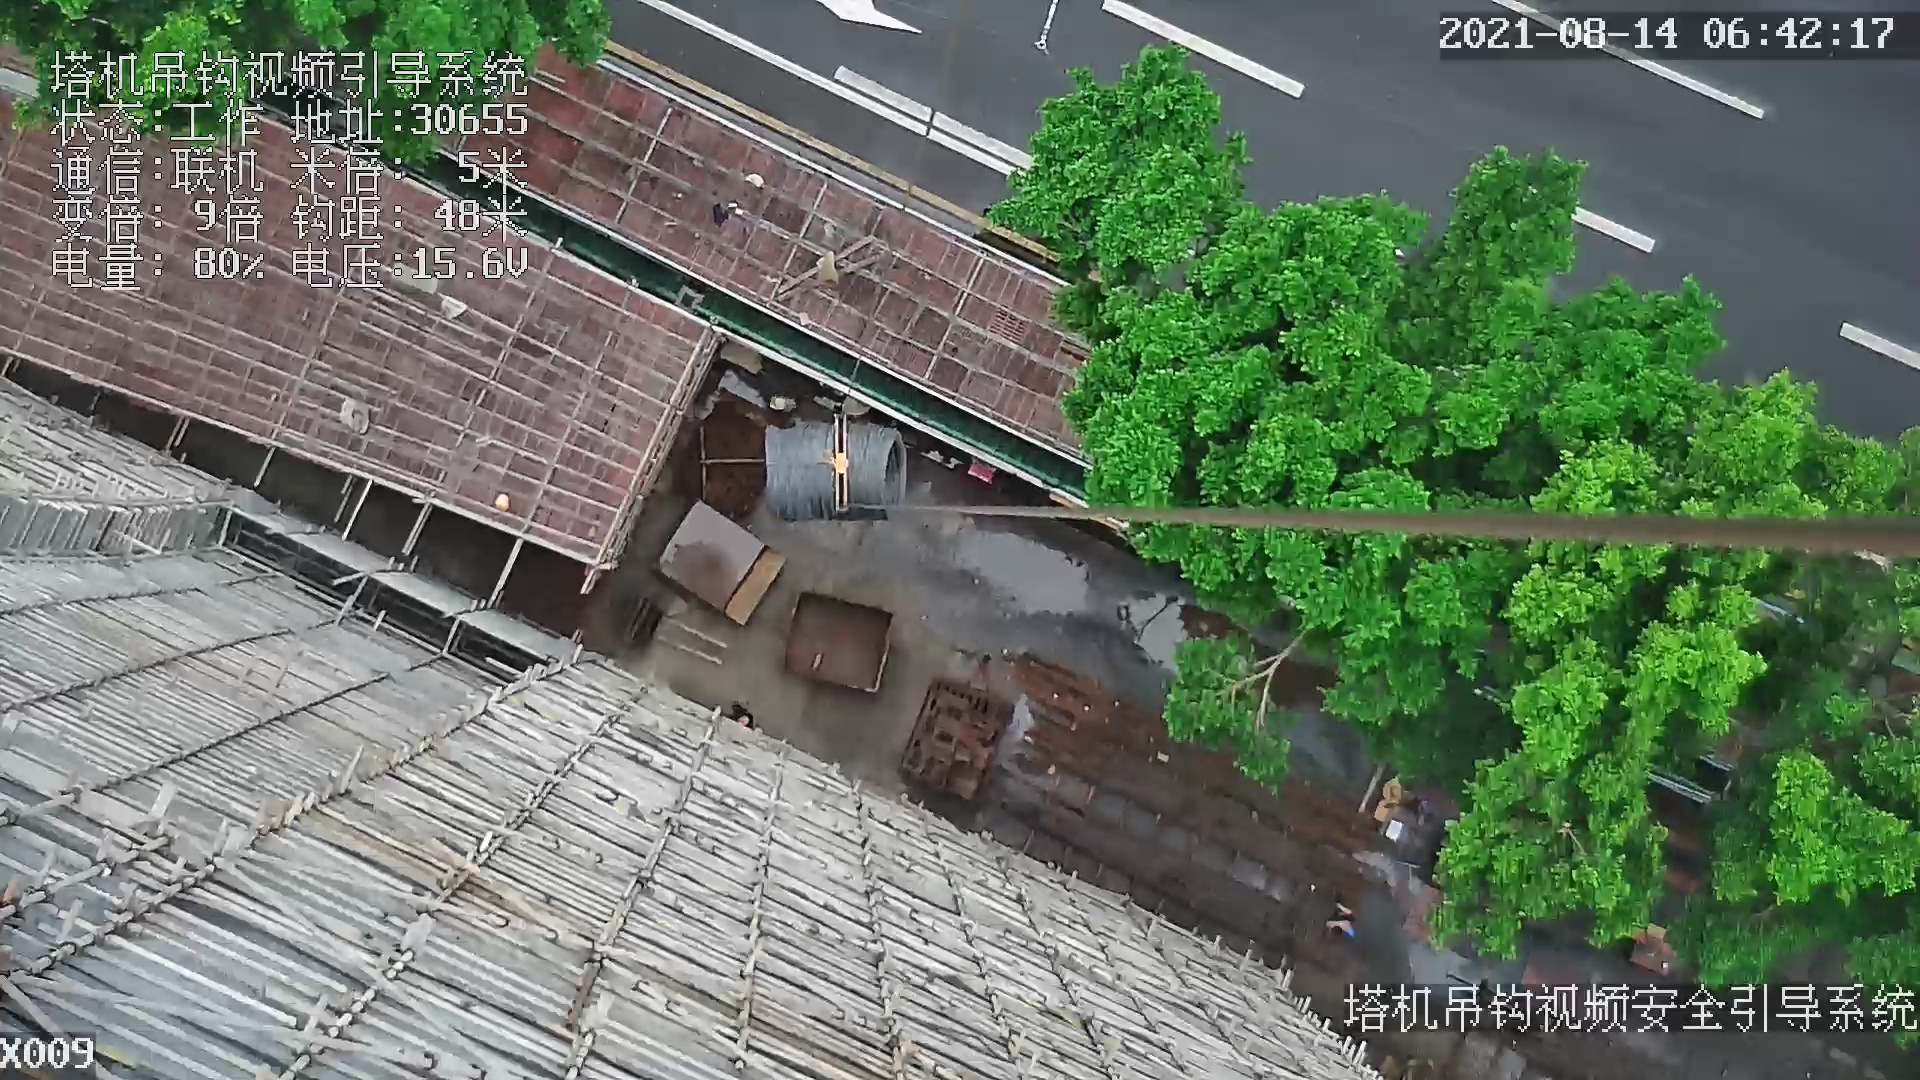hook: (818, 410, 854, 514)
person: (1323, 897, 1360, 939)
